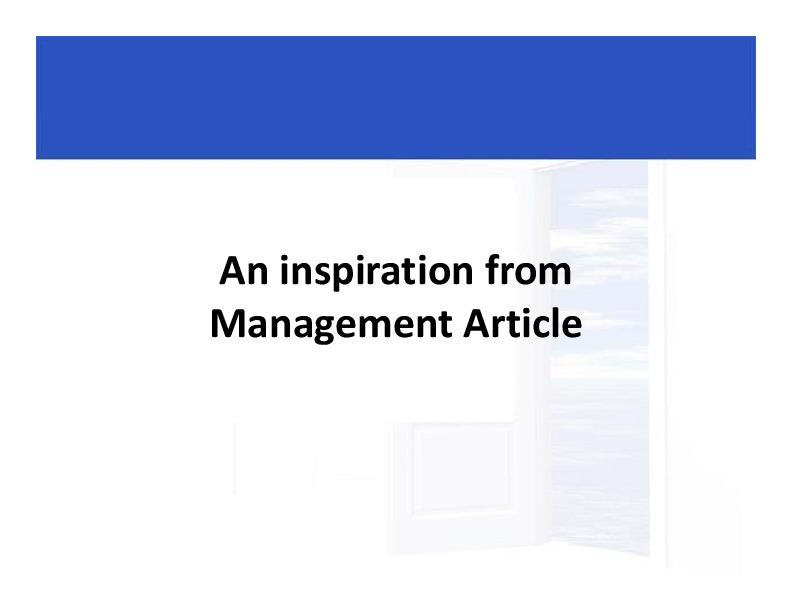title: (200, 231, 612, 370)
